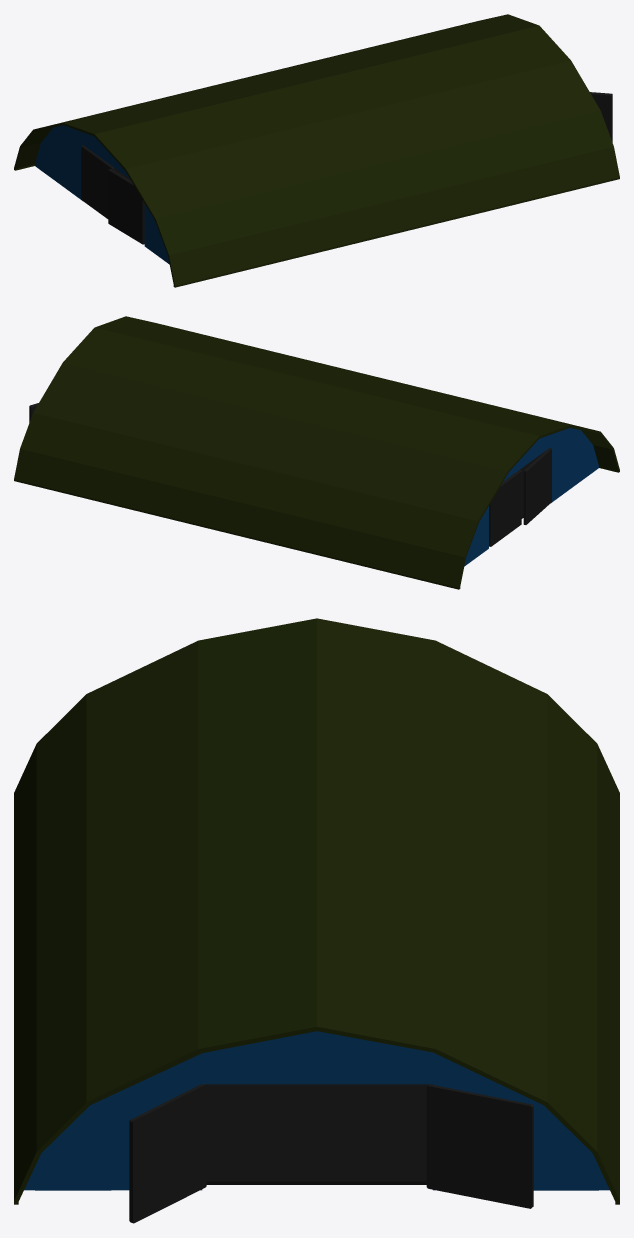
Rendered from Angar.fbx.
3 views of the same model, one above another, from view 1: azimuth 30°, elevation 25°; view 2: azimuth 150°, elevation 25°; view 3: azimuth 270°, elevation 25° (orthographic). The views are drawn at different scales.
Visible parts, largest first — view 1: Angar; view 2: Angar; view 3: Angar.
Boxes of the visible parts, left/top/right/bottom form: Angar: left=14, top=14, right=619, bottom=287; Angar: left=14, top=316, right=619, bottom=589; Angar: left=14, top=618, right=619, bottom=1223.
Bounding box in the file's own units: 3295 × 636 × 1958.
